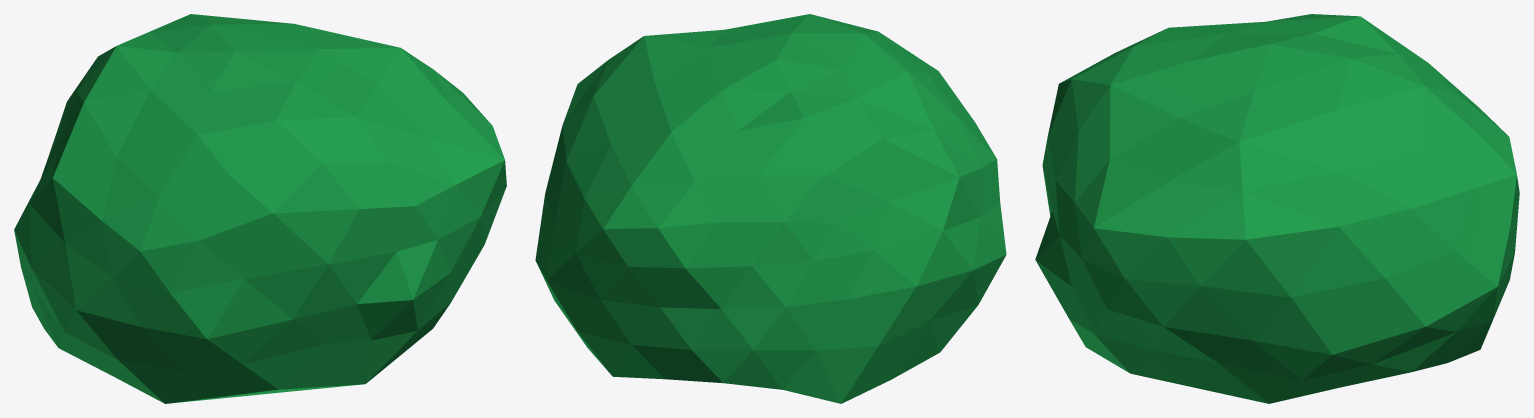
Rendered from bush_large.fbx.
3 views of the same model, side by side, from view 1: azimuth 30°, elevation 25°; view 2: azimuth 150°, elevation 25°; view 3: azimuth 270°, elevation 25° (orthographic). The views are drawn at different scales.
Visible parts, largest first — view 1: Icosphere; view 2: Icosphere; view 3: Icosphere.
Boxes of the visible parts, x1,y1,x2,y2 form: Icosphere: (14,14,506,403); Icosphere: (535,14,1006,403); Icosphere: (1035,14,1519,403).
Size of the model in its own units: 3.96 by 2.49 by 3.86.
